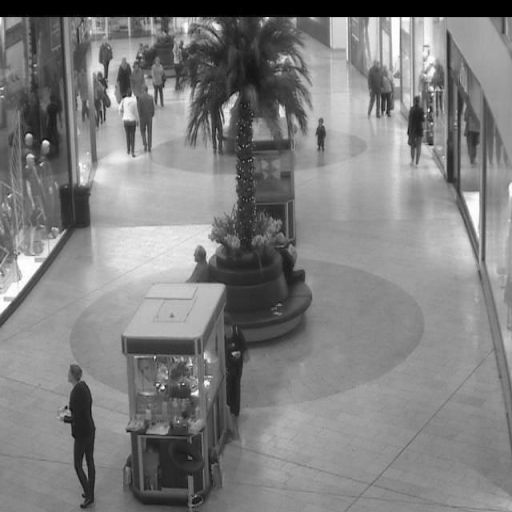person: (59, 364, 97, 505), (220, 311, 246, 417), (405, 95, 426, 166), (137, 83, 155, 151), (119, 90, 136, 156), (91, 72, 111, 128), (366, 58, 381, 120), (186, 243, 208, 282), (381, 61, 394, 117), (115, 58, 133, 95), (153, 57, 166, 108), (99, 36, 113, 77), (172, 36, 182, 90), (130, 62, 145, 92), (315, 116, 326, 150)
